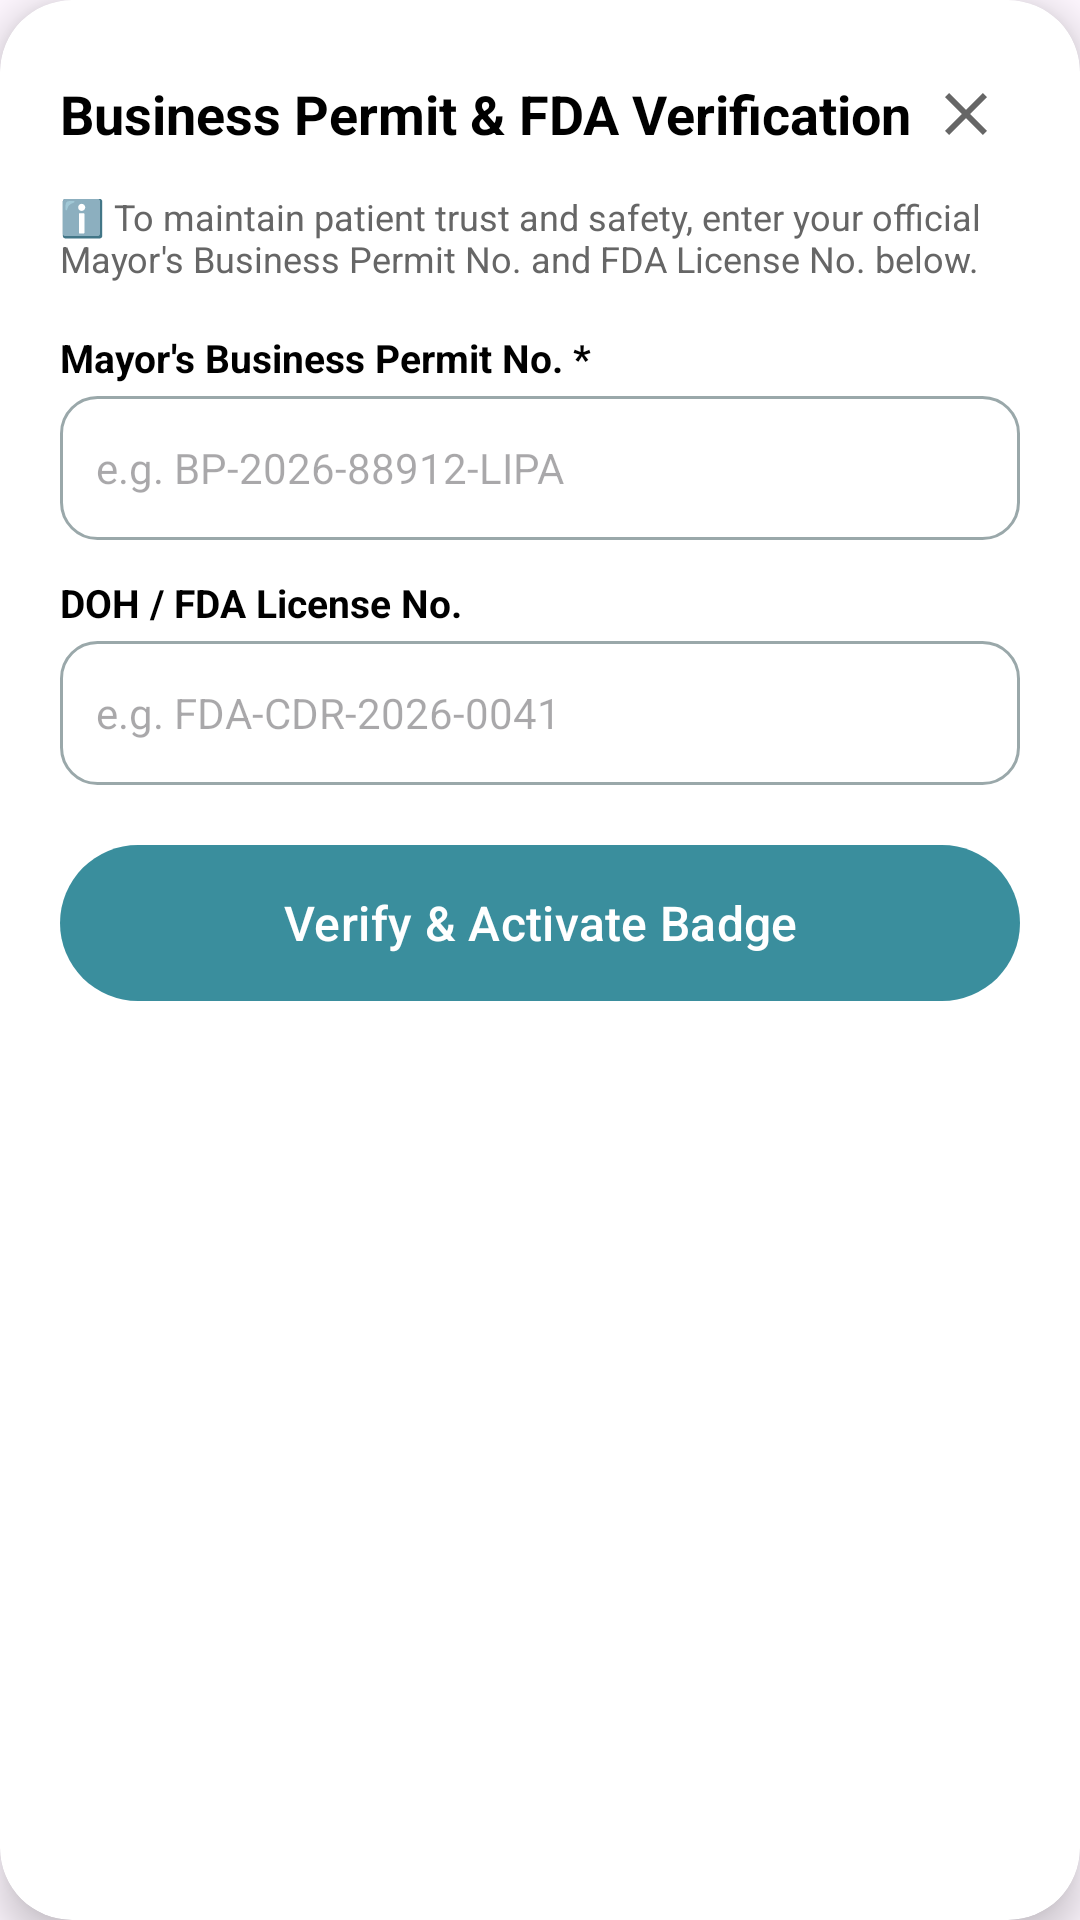

Icons on this 1080*1920 Android screen, each with its box as (x1=x1, y1=y1, x2=x2, y2=y2):
close: (x1=945, y1=93, x2=987, y2=135)
